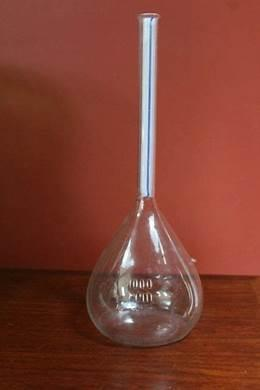Volumetric flask: (82, 8, 204, 346)
